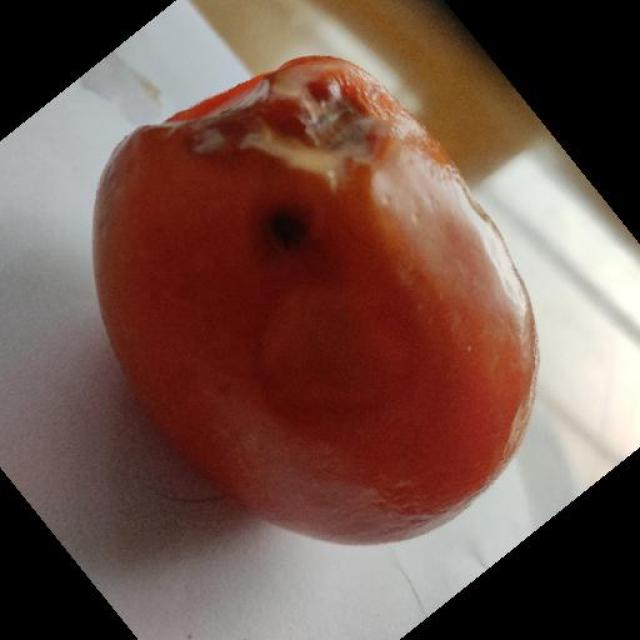Stale_tomato: (96, 41, 512, 494)
